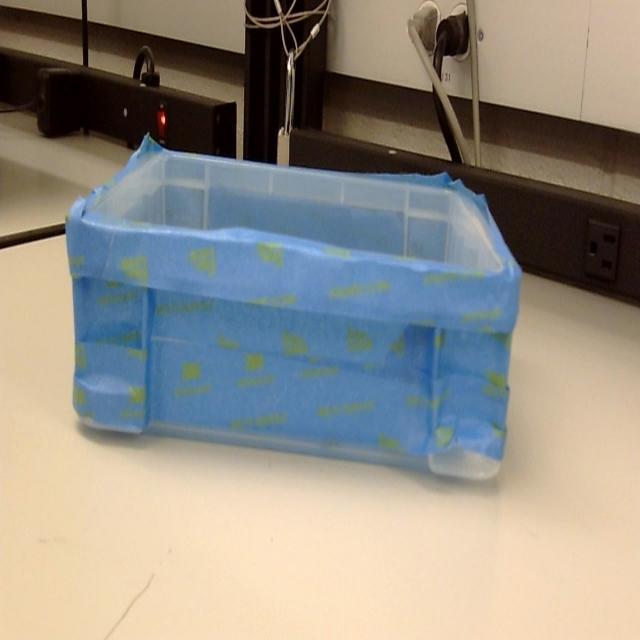bucket: (62, 136, 522, 485)
